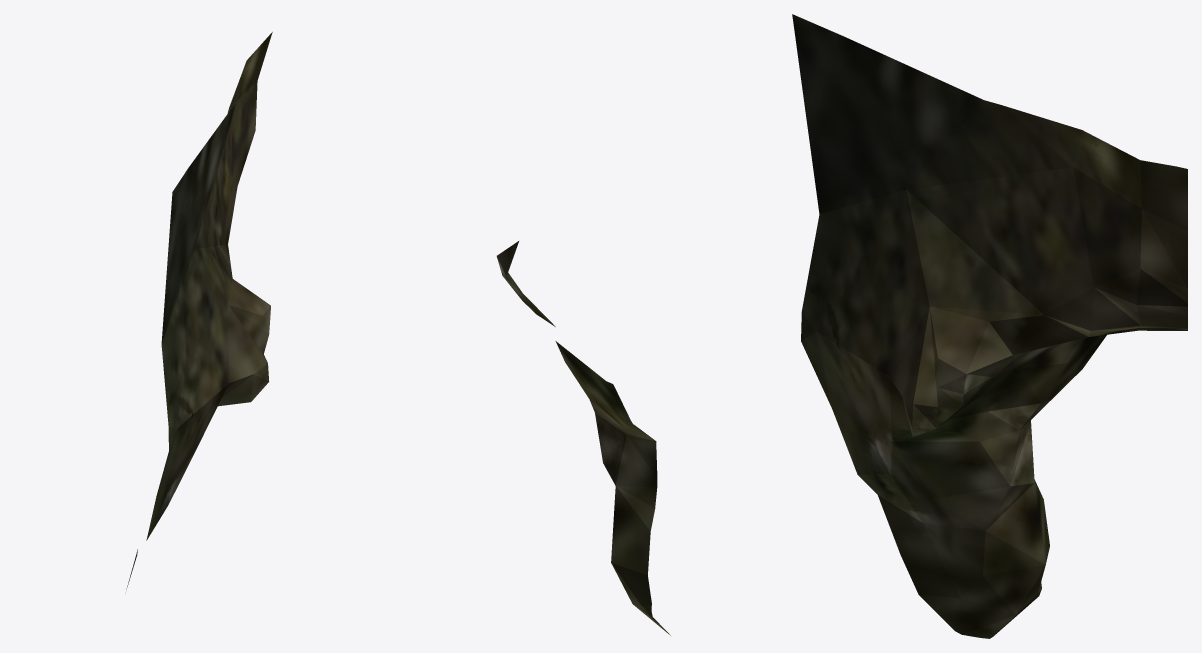
3 views of the same model, side by side, from view 1: azimuth 30°, elevation 25°; view 2: azimuth 150°, elevation 25°; view 3: azimuth 270°, elevation 25° (orthographic). The views are drawn at different scales.
Size of the model in its own units: 0.3123 by 0.5873 by 0.337.
1 material, 1 textured.
